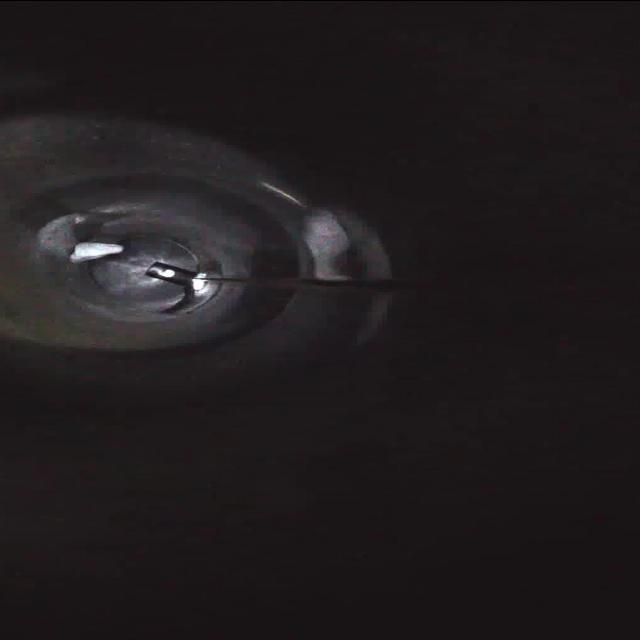impurity: (61, 235, 131, 267)
